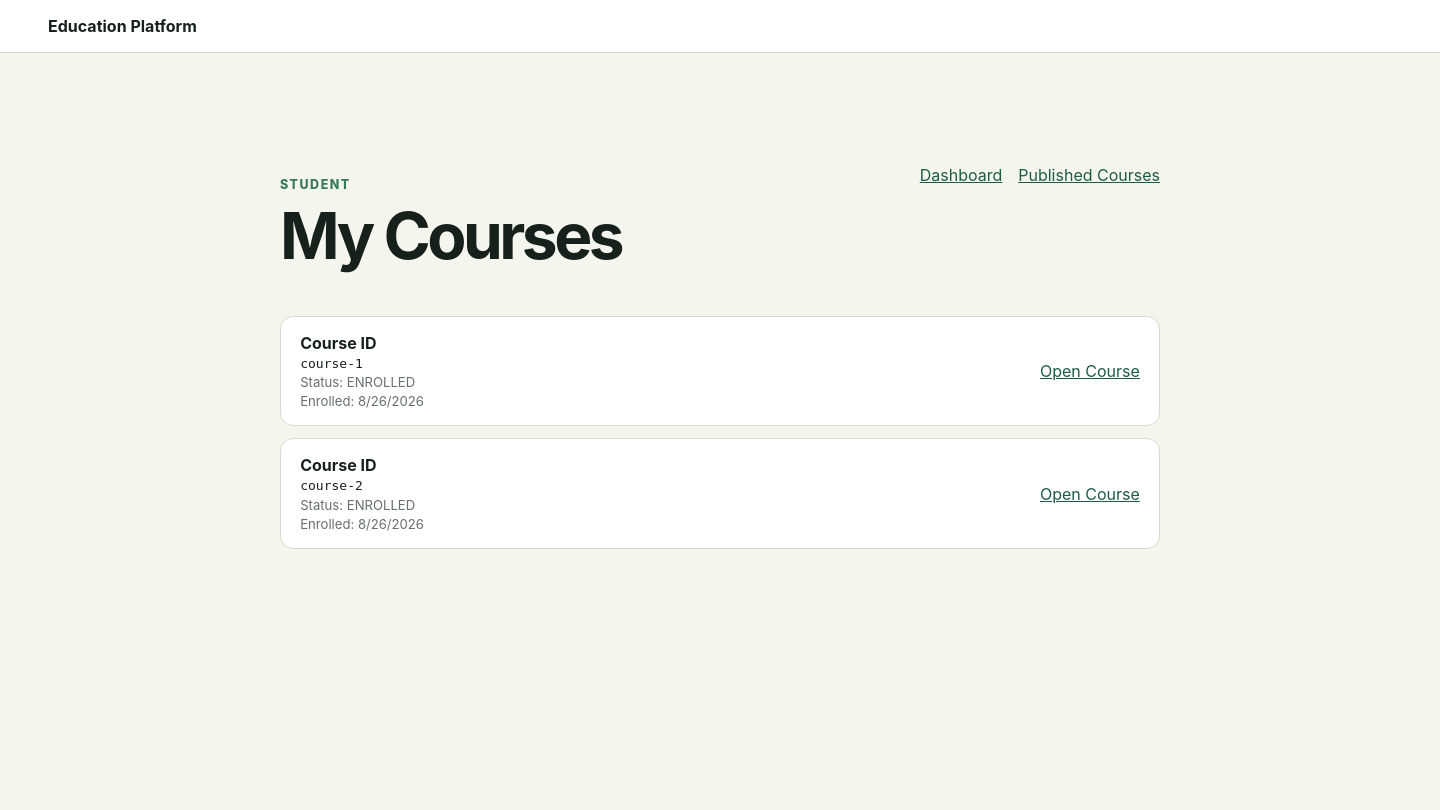
it: Student My Courses UI › renders only enrollment contract fields and opens existing Course Detail
Expected: the text "course-1" is shown, [300, 356, 363, 371]
Expected: the text "course-2" is shown, [300, 478, 363, 493]
Click the link "Open Course" in the row of "course-1": (1090, 371) [1040, 361, 1140, 381]
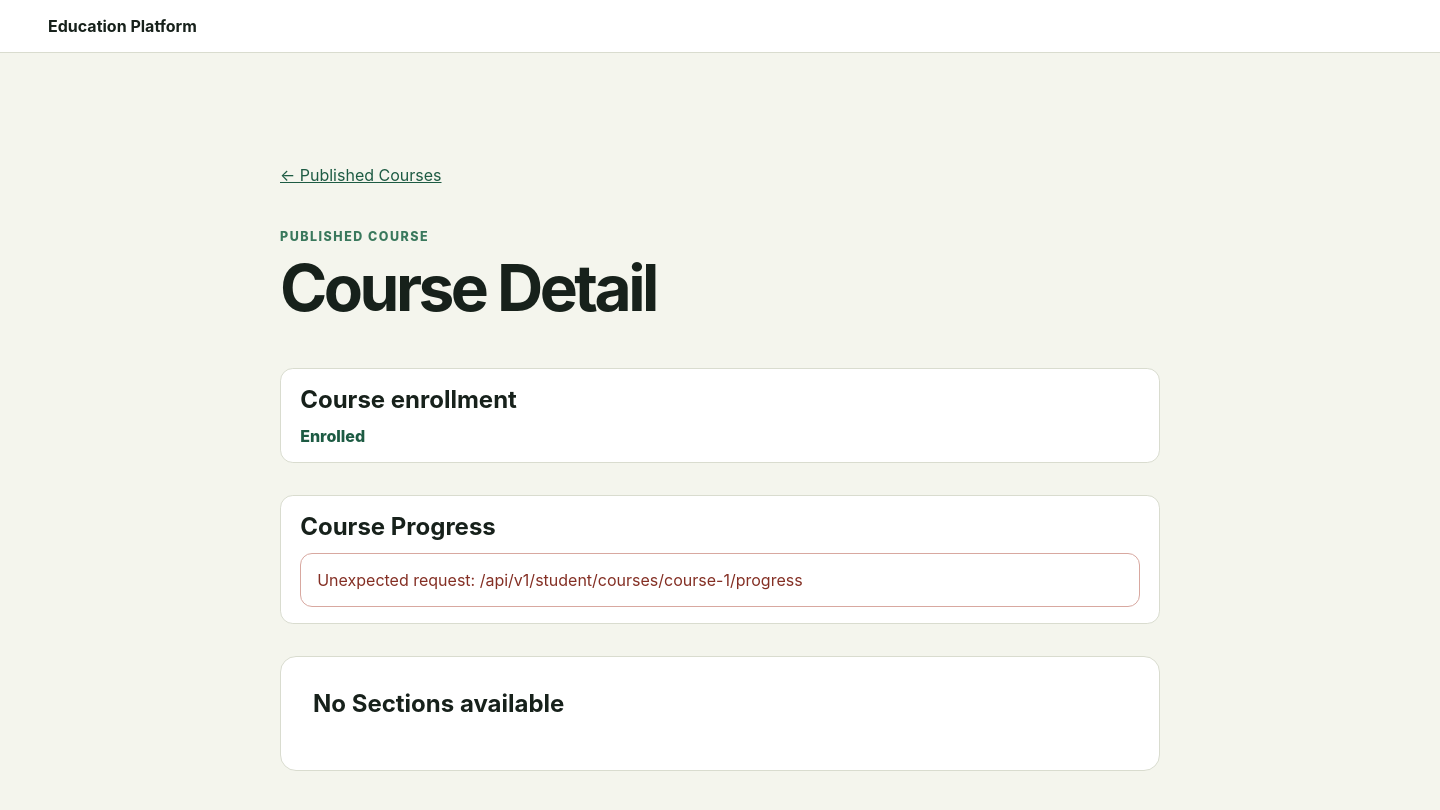
Expected: the heading "Course Detail" is shown, [280, 249, 656, 326]
